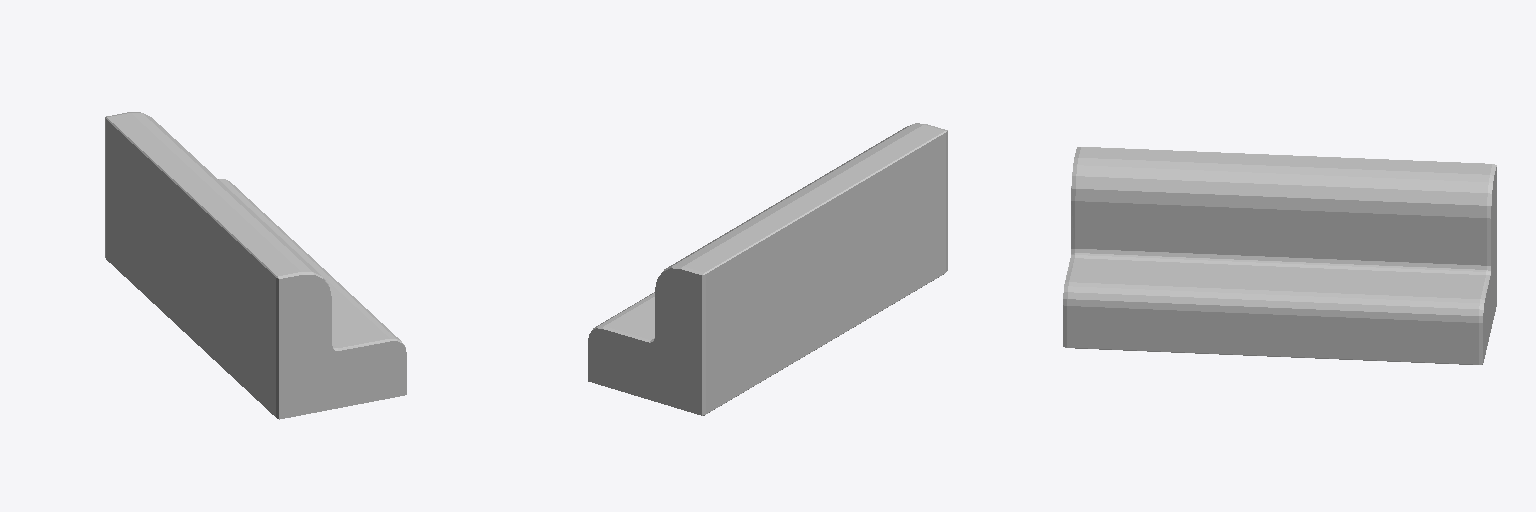
File: seat_9.obj
3 views of the same model, side by side, from view 1: azimuth 30°, elevation 25°; view 2: azimuth 150°, elevation 25°; view 3: azimuth 270°, elevation 25° (orthographic).
Visible parts, largest first — view 1: Cadeira1.008_Cube.008; view 2: Cadeira1.008_Cube.008; view 3: Cadeira1.008_Cube.008.
Boxes of the visible parts, box(x1,y1,x2,y2) form: Cadeira1.008_Cube.008: box(105, 112, 406, 419); Cadeira1.008_Cube.008: box(588, 123, 947, 415); Cadeira1.008_Cube.008: box(1063, 147, 1496, 364).
Size of the model in its own units: 1.4 by 1.2 by 3.32.